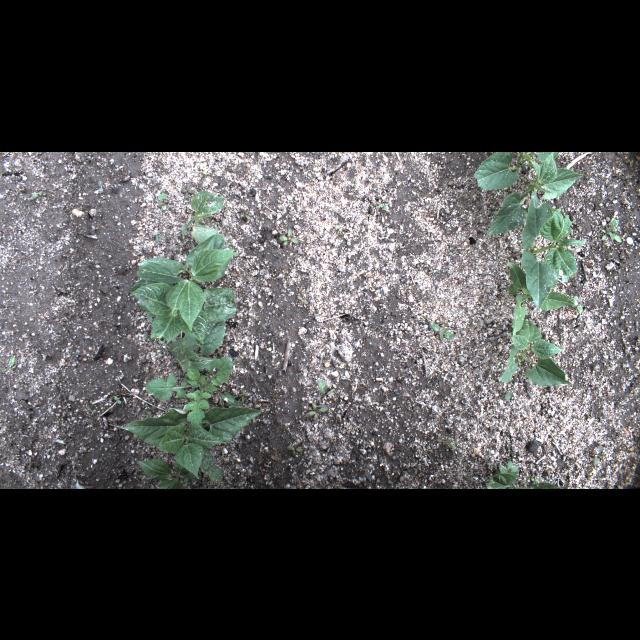crop: (113, 407, 264, 478), (136, 234, 238, 330), (482, 153, 584, 237), (518, 192, 584, 306), (130, 278, 236, 339), (498, 319, 572, 389), (506, 260, 574, 334), (470, 152, 558, 190), (169, 325, 227, 373), (182, 190, 224, 242), (134, 459, 196, 486), (486, 474, 566, 488), (200, 450, 223, 484)
weed: (144, 356, 234, 422), (600, 218, 622, 242), (430, 320, 454, 340), (316, 377, 336, 399), (280, 227, 300, 247), (218, 390, 244, 404), (306, 402, 328, 418), (590, 444, 604, 468), (178, 180, 196, 198), (156, 189, 172, 209), (2, 353, 16, 372), (499, 462, 519, 474), (572, 294, 584, 314), (286, 443, 302, 457), (28, 190, 46, 202), (463, 187, 477, 199), (504, 391, 514, 407), (434, 436, 452, 444), (378, 200, 389, 212), (95, 180, 105, 192), (240, 208, 252, 218), (112, 396, 124, 404), (333, 224, 345, 232), (238, 391, 246, 402), (452, 441, 458, 454), (156, 231, 162, 241), (530, 476, 540, 482), (228, 237, 234, 243)
